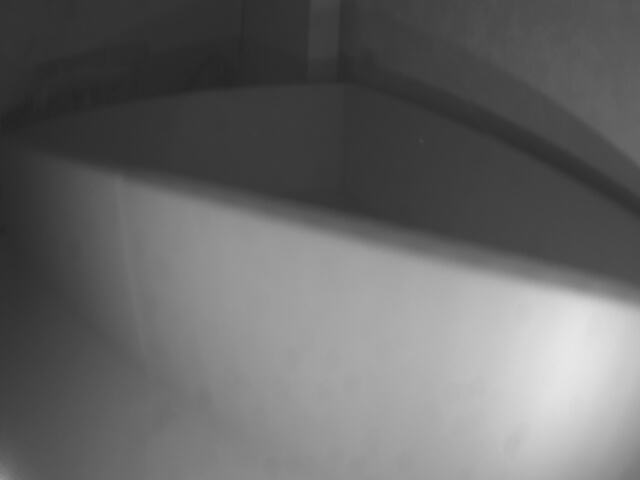Point: (1, 134, 640, 480)
